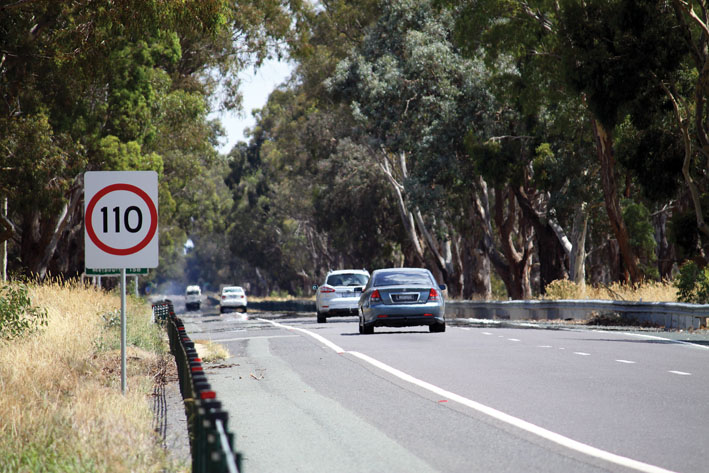Speed_limit_110km: (85, 182, 159, 256)
car: (354, 266, 451, 337)
